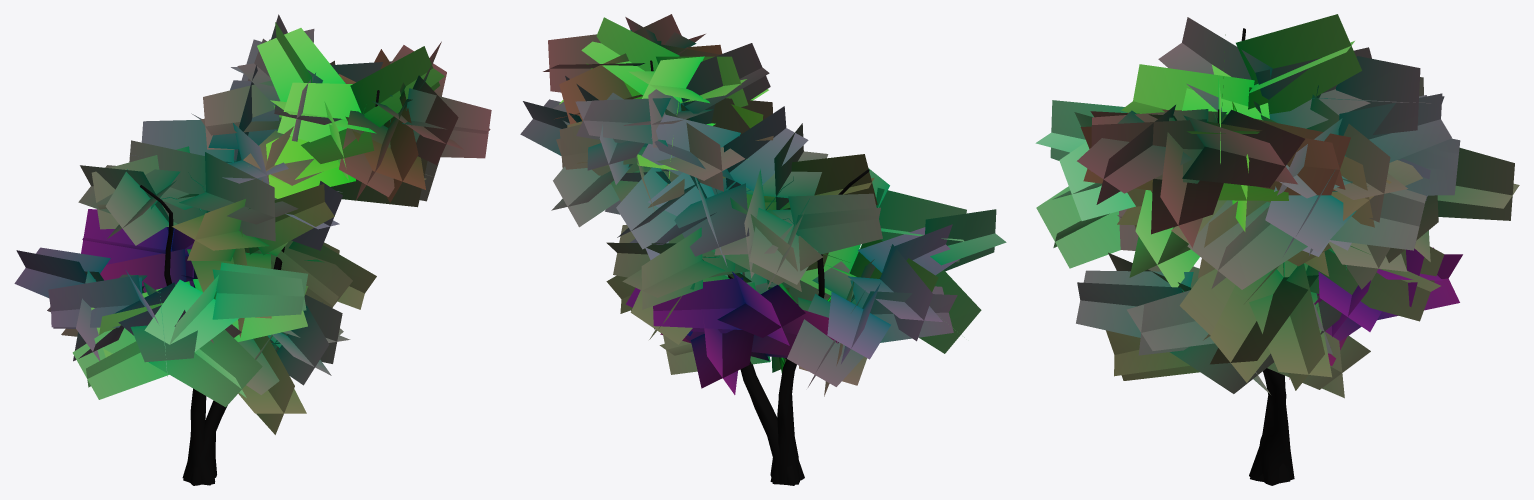
Rendered from M_Realistic12_12.fbx.
3 renders of one model, left to right at view 1: azimuth 30°, elevation 25°; view 2: azimuth 150°, elevation 25°; view 3: azimuth 270°, elevation 25°, orthographic. The views are drawn at different scales.
Parts seen in each view (by area): view 1: Tree_12; view 2: Tree_12; view 3: Tree_12.
Part boxes in pixels (x1,y1,x2,y2): Tree_12: [14, 14, 491, 485]; Tree_12: [520, 14, 1006, 485]; Tree_12: [1035, 14, 1519, 485].
Size of the model in its own units: 1559 by 1524 by 1278.
